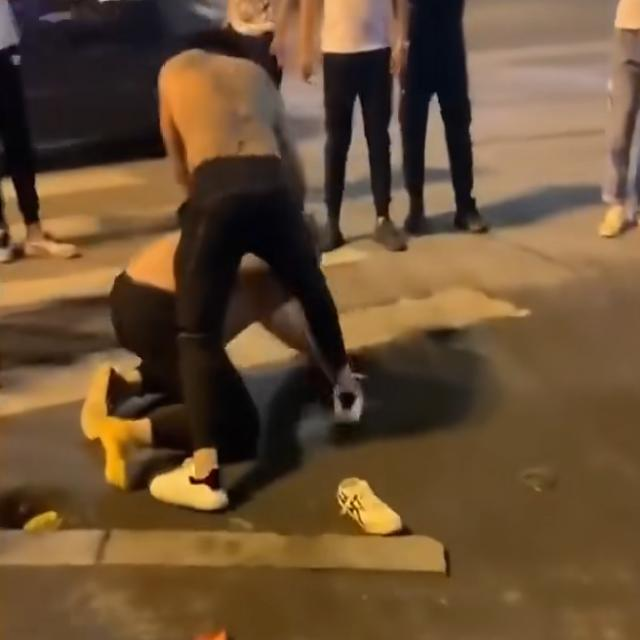fight: (101, 41, 381, 500)
